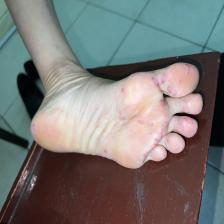DA: (130, 63, 195, 170)
